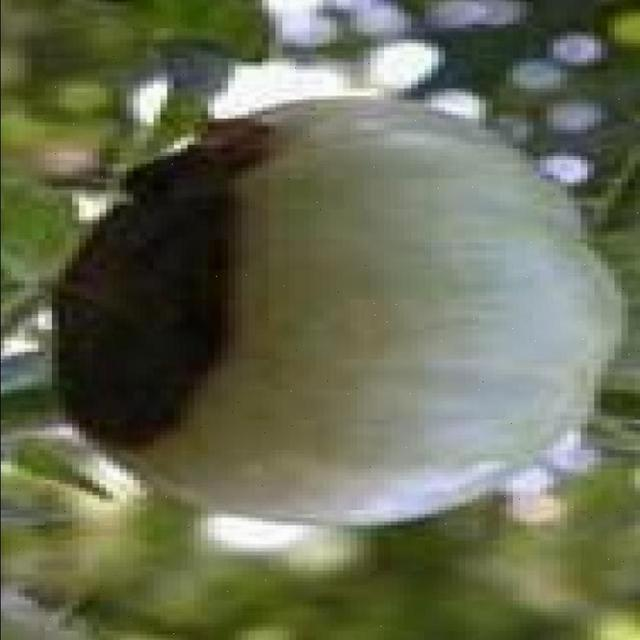Blossom End Rot Fruit: (39, 73, 188, 299)
